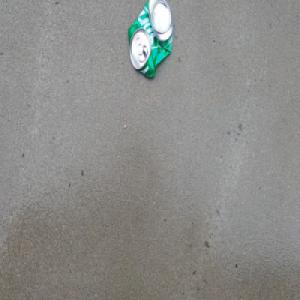SodaCan: (127, 0, 174, 81)
